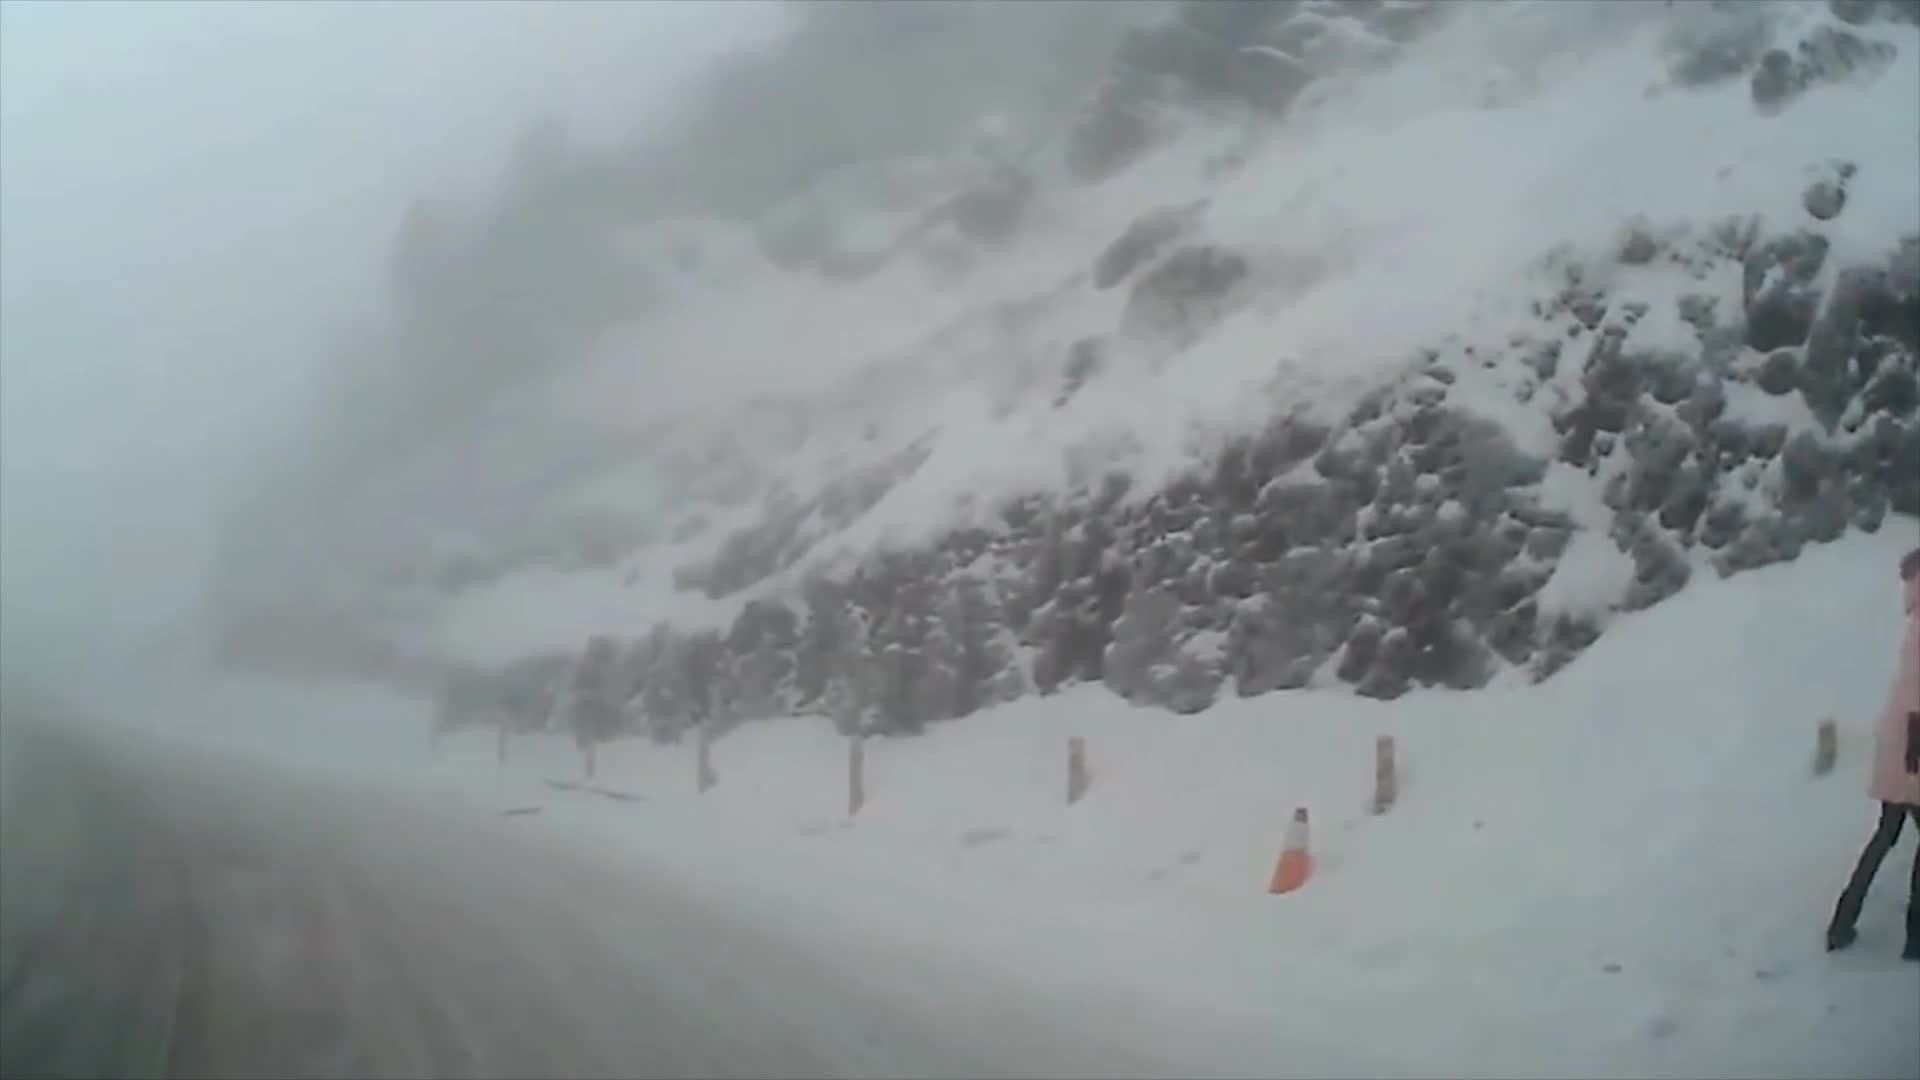pedestrian: (1828, 512, 1920, 955)
